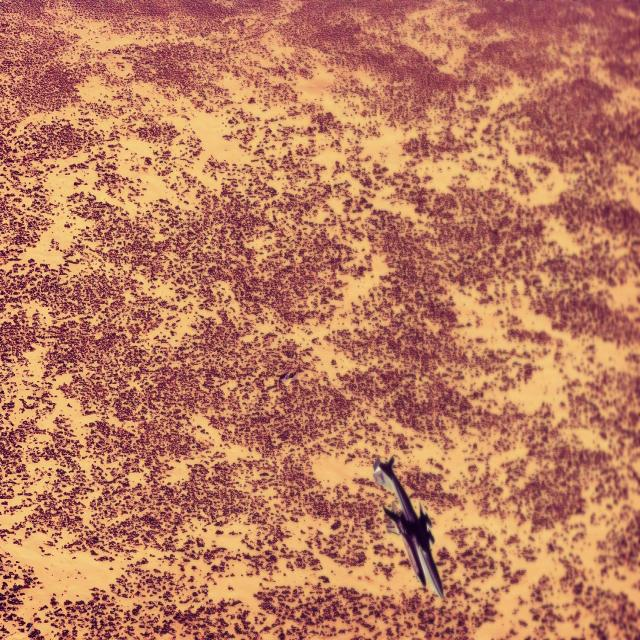airplane: (372, 454, 444, 600)
